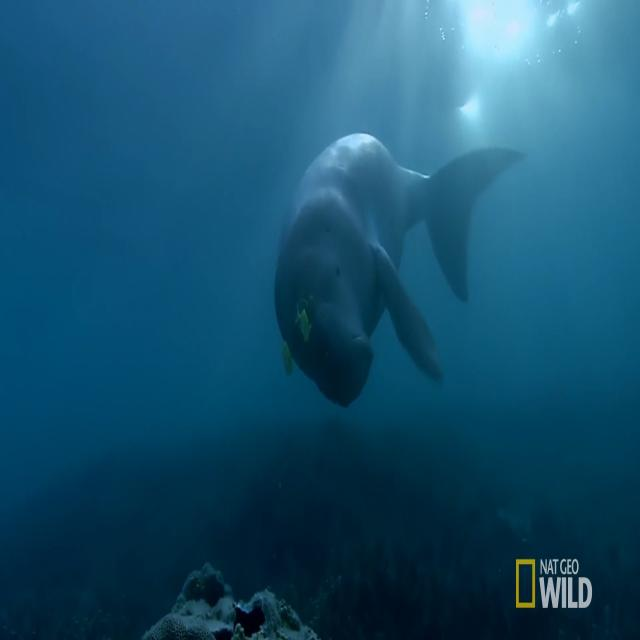Dugong -Endangered-: (274, 133, 525, 402)
